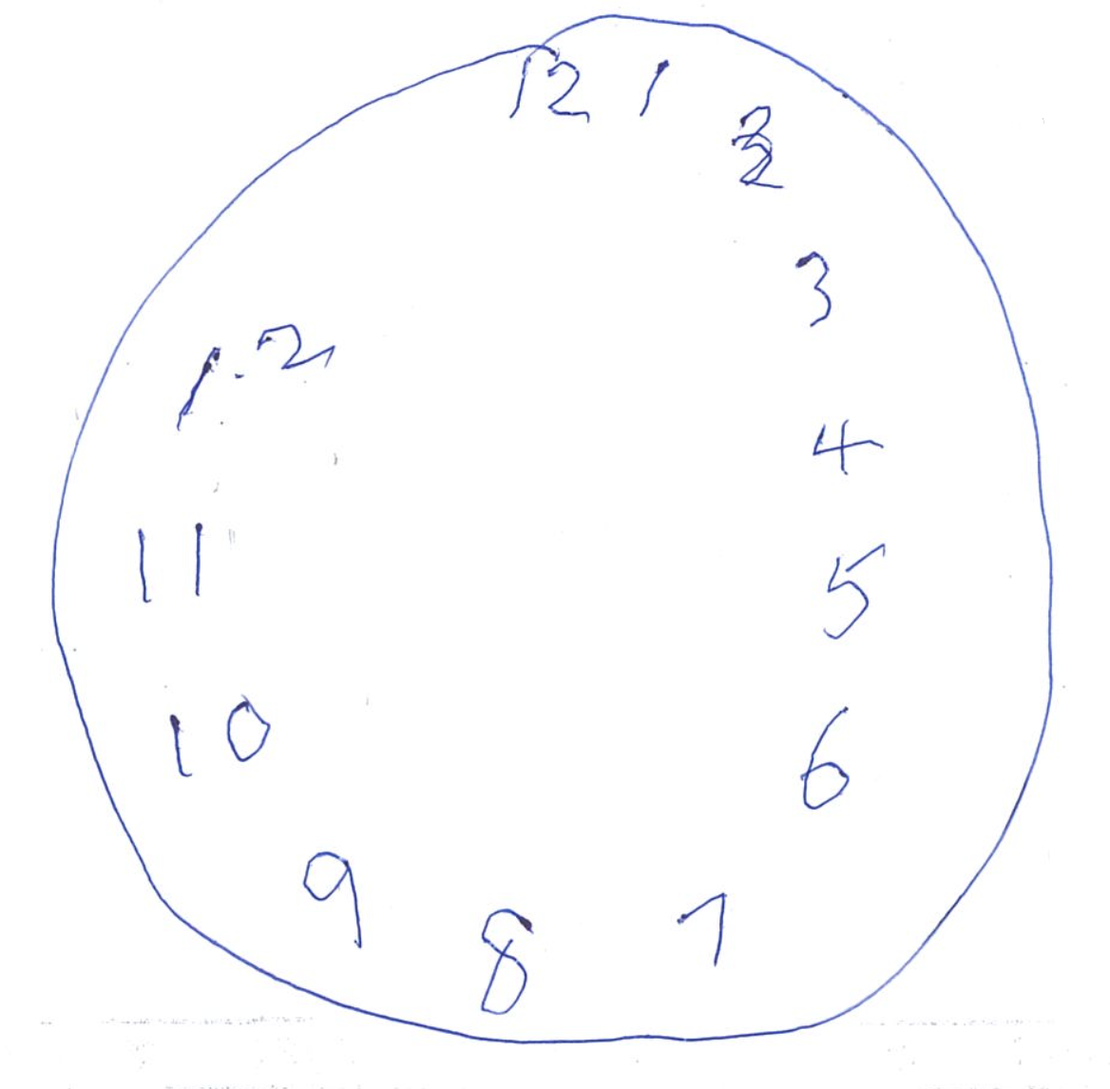1: (632, 48, 671, 125)
10: (163, 697, 277, 787)
11: (129, 516, 208, 612)
12: (507, 53, 598, 131)
2: (736, 124, 785, 199)
3: (793, 249, 844, 334)
4: (812, 418, 885, 481)
5: (826, 542, 887, 643)
6: (800, 700, 853, 814)
7: (671, 887, 736, 975)
8: (469, 899, 537, 1017)
9: (300, 848, 371, 951)
contour: (41, 10, 1060, 1050)
